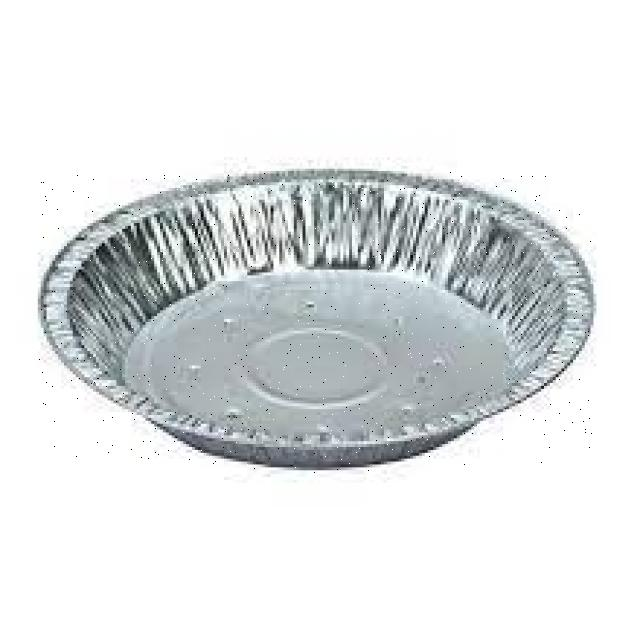metal: (38, 172, 593, 473)
